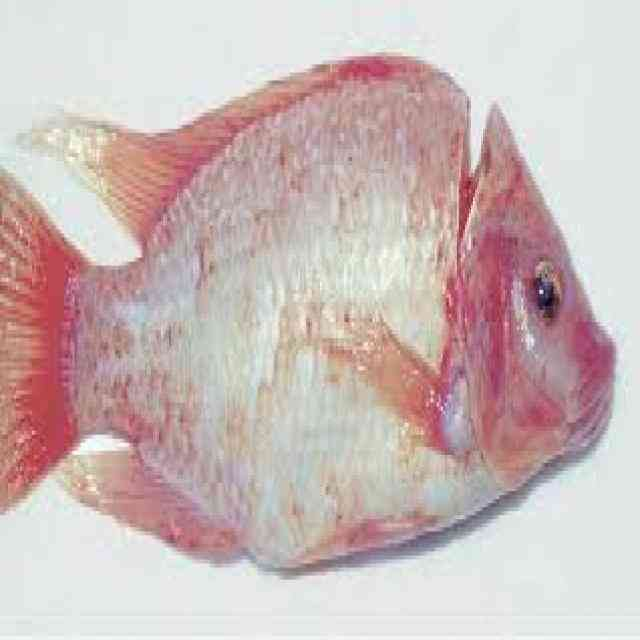EUS Disease: (2, 55, 624, 586), (370, 77, 593, 458), (86, 259, 248, 460), (272, 305, 378, 556), (258, 133, 364, 295)
